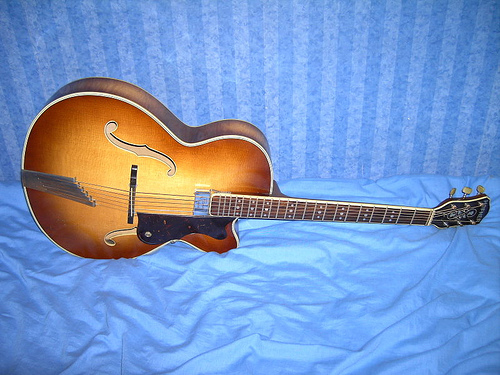guitar: (19, 76, 490, 263)
